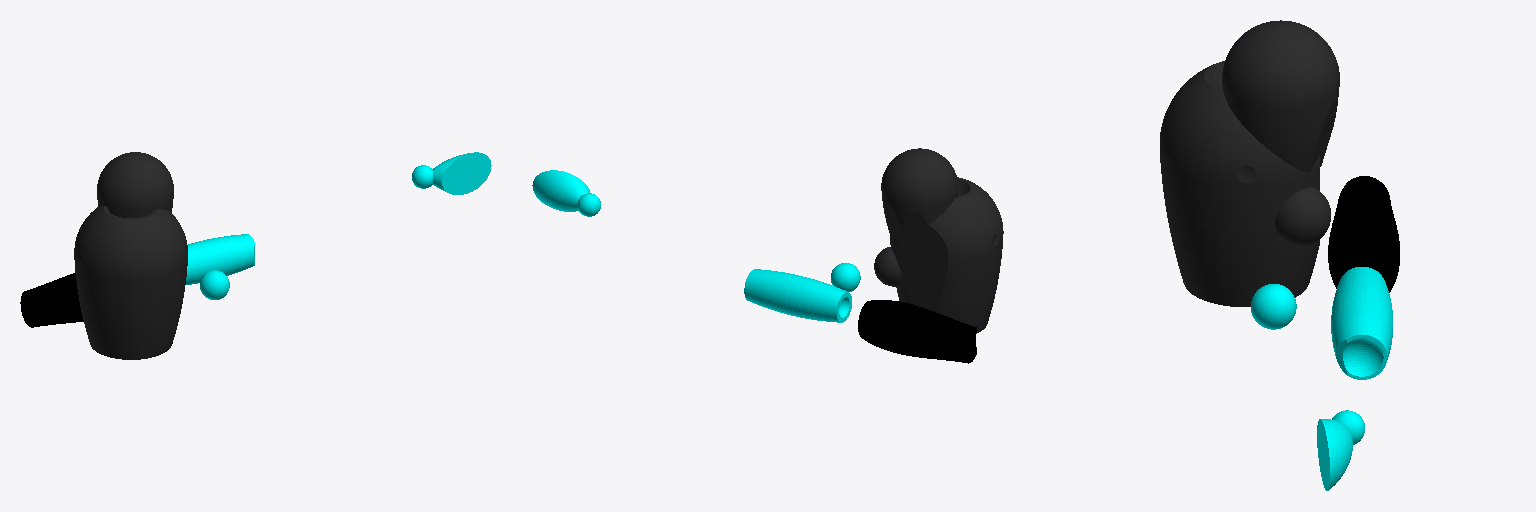
The robot description file, URDF, robot "human_5dof_planar_model":
<robot name="human_5dof_planar_model">
    <material name="body_color">
        <texture />
        <color rgba="0.005 0.005 0.005 0.6" />
    </material>
    <link name="trunk">
        <inertial>
            <mass value="35.47" />
            <origin xyz="0.116 0.007 -0.001" rpy="0 -0 0" />
            <inertia ixx="2.592457" ixy="7.005900e-02" ixz="-3.523000e-04" iyy="2.448720e-01" iyz="-4.236600e-03" izz="2.594914" />
        </inertial>
        <visual>
	    <origin xyz="-0.15 0.0 -0.25" rpy="1.57 0 1.57" /> 
            <geometry>
		        
		        <mesh filename="package://human_urdf/meshes/torso_mesh.STL" scale="0.0065 0.0065 0.0065" />
            </geometry>
            <material name="body_color">
                <texture />
                <color rgba="0.2 0.2 0.2 0.2" />
            </material>
        </visual>
        <visual>
	        <origin xyz="-0.11 0.05 0.085" rpy="1.57 0 1.57" /> 
            <geometry>
		        <mesh filename="package://human_urdf/meshes/head_mesh.STL" scale="0.0055 0.0055 0.0055" />
            </geometry>
            <material name="body_color">
                <texture />
                <color rgba="0.2 0.2 0.2 0.5" />
            </material>
        </visual>
        <visual>
	    <origin xyz="-0.06 0.08 0.05" rpy="0 0.0 0" /> 
            <geometry>
		<mesh filename="package://human_urdf/meshes/neck_mesh.STL" scale="0.005 0.005 0.005" />
            </geometry>
            <material name="body_color">
                <texture />
                <color rgba="0.2 0.2 0.2 0.7" />
            </material>
        </visual>
    </link>
    <joint name="shoulder_Z" type="revolute">
        <origin xyz="0.0 0.0 0.0" rpy="1.57 -0 0" />
        <axis xyz="0 0 1" />
        <parent link="trunk" />
        <child link="upperarm" />
        <limit effort="0" velocity="0" lower="-1.5708" upper="1.5708" />
    </joint>
    <link name="upperarm">
        <inertial>
            <mass value="1.8" />
            <origin xyz="0.118 -0.004 -0.007" rpy="0 -0 0" />
            <inertia ixx="0.011874" ixy="0.000445" ixz="0.000309" iyy="0.002422" iyz="4.9e-05" izz="0.012652" />
        </inertial>
        <visual>
	    <origin xyz="-0.1575 -0.04 -0.05" rpy="0 0 0" /> 
            <geometry>
		        <mesh filename="package://human_urdf/meshes/shoulder_mesh.STL" scale="0.0055 0.0055 0.0055" />
            </geometry>
            <material name="body_color">
                <texture />
                <color rgba="0 1 1 0.5" />
            </material>
        </visual>
        <visual>
            <origin xyz="-0.0 -0.05 -0.175" rpy="1.57 -1.57 3.14" />
            <geometry>
                <mesh filename="package://human_urdf/meshes/upperarm_mesh.STL" scale="0.0063 0.0060 0.007" />
            </geometry>
            <material name="body_color" />
        </visual>
    </link>
    <joint name="elbow_Z" type="revolute">
        <origin xyz="0.262 0.0 0.0" rpy="0 -0 0" />
        <axis xyz="0 0 1" />
        <parent link="upperarm" />
        <child link="lowerarm" />
        <limit effort="0" velocity="0" lower="0" upper="2.74889" />
    </joint>
    <link name="lowerarm">
        <inertial>
            <mass value="1.28" />
            <origin xyz="0.0 -0.000 0.000" rpy="0 -0 0" />
            <inertia ixx="0.007479" ixy="8.6e-05" ixz="3.8e-05" iyy="0.001154" iyz="-0.000611" izz="0.006954" />
        </inertial>
        <visual>
	    <origin xyz="-0.17 -0.03 -0.04" rpy="0 0 0" /> 
            <geometry>
		        <mesh filename="package://human_urdf/meshes/elbow_mesh.STL" scale="0.0055 0.0055 0.0055" />
            </geometry>
            <material name="body_color">
                <texture />
                <color rgba="0 1 1 0.5" />
            </material>
        </visual>
        <visual>
            <origin xyz="-0.0 -0.035 -0.175" rpy="1.57 -1.57 3.14" />
            <geometry>
                <mesh filename="package://human_urdf/meshes/lowerarm_mesh.STL" scale="0.0060 0.0060 0.0060" />
            </geometry>
            <material name="body_color">
                <texture />
                <color rgba="0 1 1 0.5" />
            </material>
        </visual>
    </link>
    <joint name="hand_fixed" type="fixed">
        <origin xyz="0.273 0.0 0.0" rpy="0 -0 0" />
        <axis xyz="0 0 1" />
        <parent link="lowerarm" />
        <child link="hand" />
        <limit effort="0" velocity="0" lower="-1.5708" upper="1.5708" />
    </joint>
    <link name="hand">
        <inertial>
            <mass value="0.45" />
            <origin xyz="0.015 -0.154 0.014" rpy="0 -0 0" />
            <inertia ixx="0.005608" ixy="0.000729" ixz="0.000339" iyy="0.002176" iyz="-0.000603" izz="0.004726" />
        </inertial>
        <visual>
            <origin xyz="0.17 0.055 -0.15" rpy="1.57 -1.57 0" />
            <geometry>
		        <mesh filename="package://human_urdf/meshes/hand_mesh.STL" scale="0.0060 0.0060 0.0060" />
                
            </geometry>
            <material name="body_color">
                <texture />
                <color rgba="0 1 1 0.5" />
            </material>
        </visual>
    </link>
</robot>

--- Facts derived from the render (not from the file) ---
Views: 3 orthographic renders of the robot side by side, from view 1: azimuth 30°, elevation 25°; view 2: azimuth 150°, elevation 25°; view 3: azimuth 270°, elevation 25°.
Model human_5dof_planar_model with 4 links and 3 joints (2 revolute, 1 fixed), rooted at trunk, posed all joints at 0.
Links seen in each view (by area): view 1: trunk, lowerarm, upperarm, hand; view 2: trunk, upperarm, lowerarm, hand; view 3: trunk, lowerarm, upperarm, hand.
Boxes of the visible links, <box> form: trunk: <box>74,152,187,359</box>; lowerarm: <box>186,234,254,299</box>; upperarm: <box>20,273,83,327</box>; hand: <box>412,152,491,194</box>; trunk: <box>874,148,1003,333</box>; upperarm: <box>858,300,976,363</box>; lowerarm: <box>744,263,860,322</box>; hand: <box>532,170,600,216</box>; trunk: <box>1160,20,1339,306</box>; lowerarm: <box>1251,267,1392,379</box>; upperarm: <box>1328,176,1399,292</box>; hand: <box>1317,410,1364,490</box>.
Size in the robot's own frame: 1.19 by 0.3602 by 0.4489 metres.
Meshes: 8 distinct files referenced, 7 mesh visuals loaded (7 binary STL); not drawn: 1 (reference not matched to a file when rendering).
